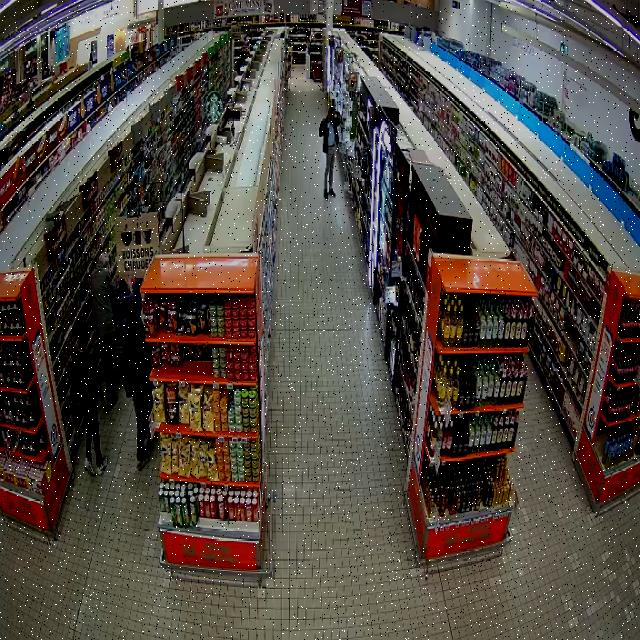article: (326, 121, 329, 135)
bags: (122, 309, 134, 398)
person: (121, 280, 151, 469), (72, 323, 107, 474), (91, 253, 117, 410), (318, 107, 341, 198)
